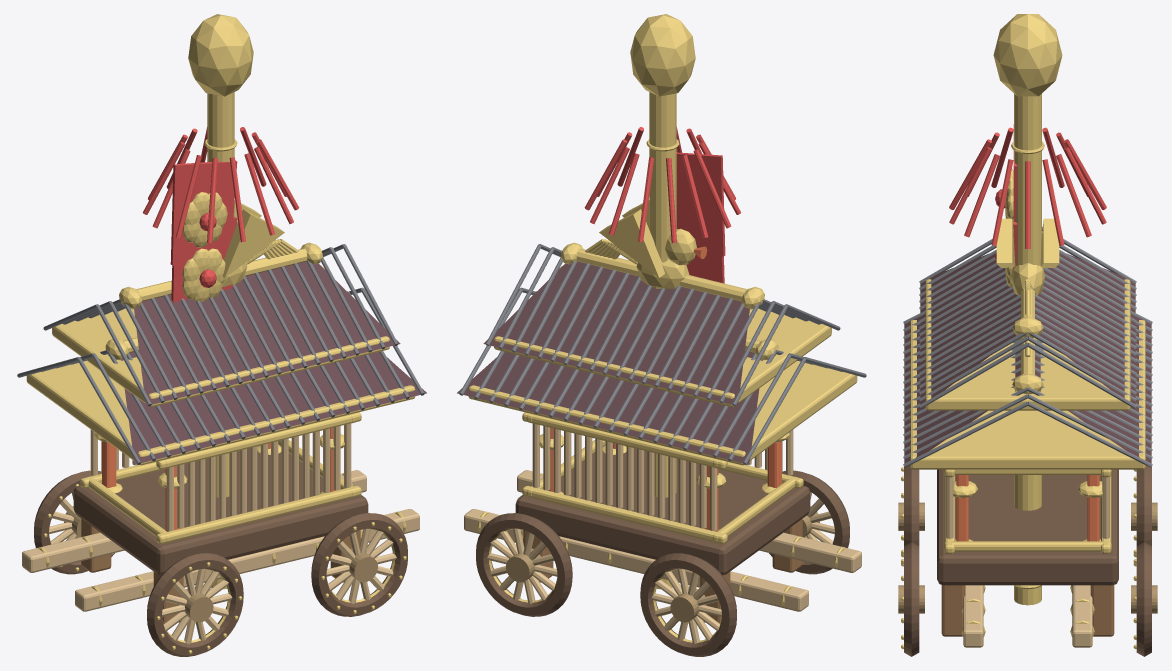
The model's file is matsuri_hoko_float.glb.
3 renders of one model, left to right at view 1: azimuth 30°, elevation 25°; view 2: azimuth 150°, elevation 25°; view 3: azimuth 270°, elevation 25°, orthographic. The views are drawn at different scales.
Visible parts, largest first — view 1: Festival shrine multi-tier roofing hipped roof.002, Heavy joined lacquered chassis, Festival shrine multi-tier roofing hipped roof, Festival shrine multi-tier roofing underedge, Festival shrine multi-tier roofing underedge.001, Golden hoko standard, Side carrying beam, Carved float wheel outer tire.002, Carved float wheel outer tire, Hoko signal banner hanging banner.002, Side carrying beam.001, Carved balustrade (+12 smaller); view 2: Festival shrine multi-tier roofing hipped roof.003, Heavy joined lacquered chassis, Festival shrine multi-tier roofing hipped roof.001, Festival shrine multi-tier roofing underedge, Festival shrine multi-tier roofing underedge.001, Golden hoko standard, Tall hoko festival mast, Side carrying beam.001, Carved float wheel outer tire.001, Carved float wheel outer tire.003, Hoko signal banner hanging banner.002, Side carrying beam (+14 smaller); view 3: Heavy joined lacquered chassis, Festival shrine multi-tier roofing underedge, Festival shrine multi-tier roofing underedge.001, Festival shrine multi-tier roofing hipped roof.003, Festival shrine multi-tier roofing hipped roof.002, Tall hoko festival mast, Golden hoko standard, Festival shrine multi-tier roofing hipped roof, Festival shrine multi-tier roofing hipped roof.001, Carved float wheel outer tire.002, Carved float wheel outer tire.003, Hand-carved transverse sill.001 (+42 smaller).
Part boxes in pixels (x1,y1,x2,y2): Festival shrine multi-tier roofing hipped roof.002: (134,261,400,405); Heavy joined lacquered chassis: (73,448,368,575); Festival shrine multi-tier roofing hipped roof: (121,350,426,464); Festival shrine multi-tier roofing underedge: (26,361,415,465); Festival shrine multi-tier roofing underedge.001: (52,308,389,406); Golden hoko standard: (188,14,253,96); Side carrying beam: (75,509,419,611); Carved float wheel outer tire.002: (311,513,407,616); Carved float wheel outer tire: (147,553,243,656); Hoko signal banner hanging banner.002: (170,160,237,265); Side carrying beam.001: (22,470,366,572); Carved balustrade: (156,486,361,543); Festival shrine multi-tier roofing hipped roof.003: (483,261,749,405); Heavy joined lacquered chassis: (515,448,810,575); Festival shrine multi-tier roofing hipped roof.001: (457,350,762,464); Festival shrine multi-tier roofing underedge: (468,361,857,465); Festival shrine multi-tier roofing underedge.001: (494,308,831,406); Golden hoko standard: (630,14,695,96); Tall hoko festival mast: (649,92,676,589); Side carrying beam.001: (464,509,808,611); Carved float wheel outer tire.001: (640,553,736,656); Carved float wheel outer tire.003: (476,513,572,616); Hoko signal banner hanging banner.002: (676,152,725,256); Side carrying beam: (517,470,861,572); Heavy joined lacquered chassis: (937,469,1118,585); Festival shrine multi-tier roofing underedge: (910,320,1145,469); Festival shrine multi-tier roofing underedge.001: (925,279,1130,410); Festival shrine multi-tier roofing hipped roof.003: (1035,253,1135,408); Festival shrine multi-tier roofing hipped roof.002: (920,253,1020,408); Tall hoko festival mast: (1014,94,1041,605); Golden hoko standard: (993,14,1062,96); Festival shrine multi-tier roofing hipped roof: (904,316,1020,467); Festival shrine multi-tier roofing hipped roof.001: (1035,316,1151,467); Carved float wheel outer tire.002: (904,542,919,656); Carved float wheel outer tire.003: (1136,542,1151,656); Hand-carved transverse sill.001: (944,541,1111,551).
Size of the model in its own units: 1.19 by 1.95 by 0.7688.
